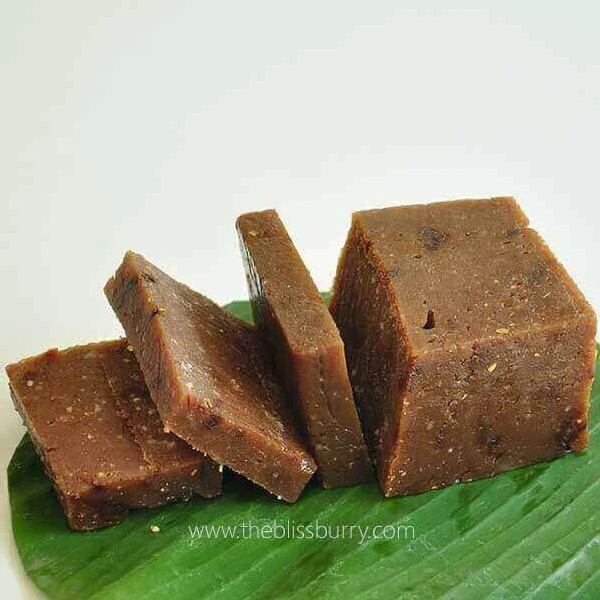dodol: (326, 194, 597, 500), (101, 251, 316, 505), (3, 335, 226, 531), (233, 208, 373, 490)
